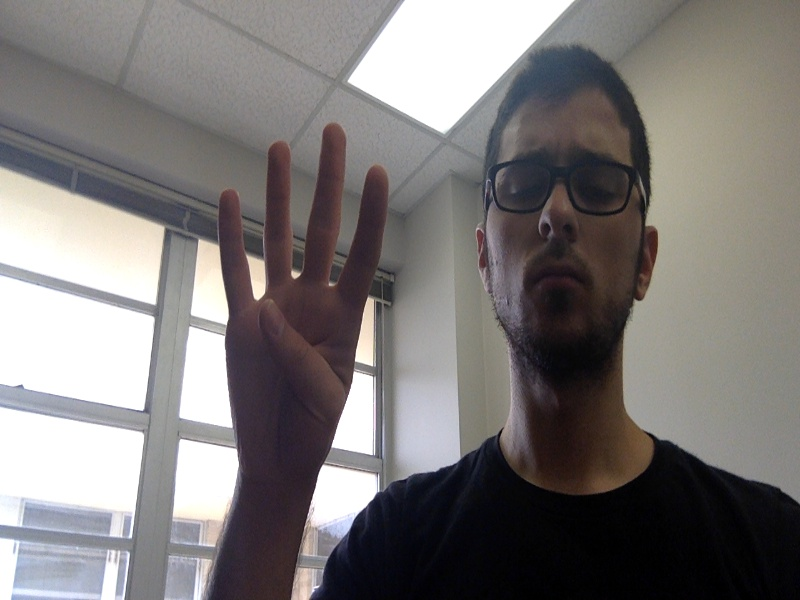4-hand: (218, 124, 388, 458)
